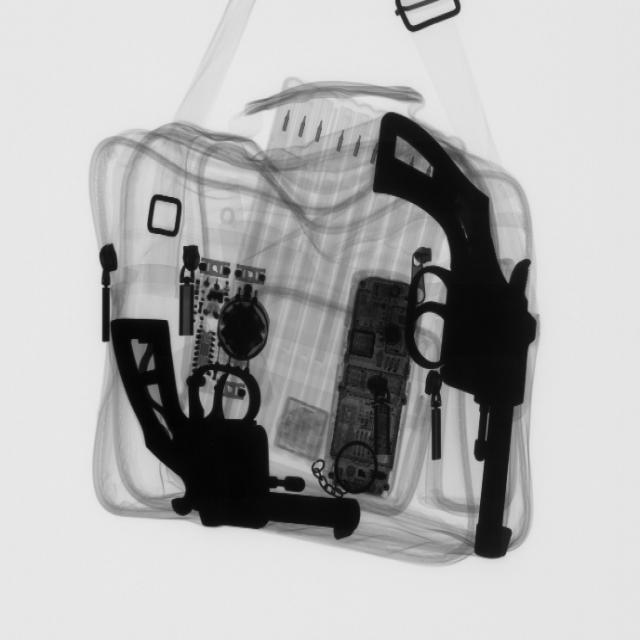GUN: (391, 118, 549, 569), (108, 303, 356, 540)
